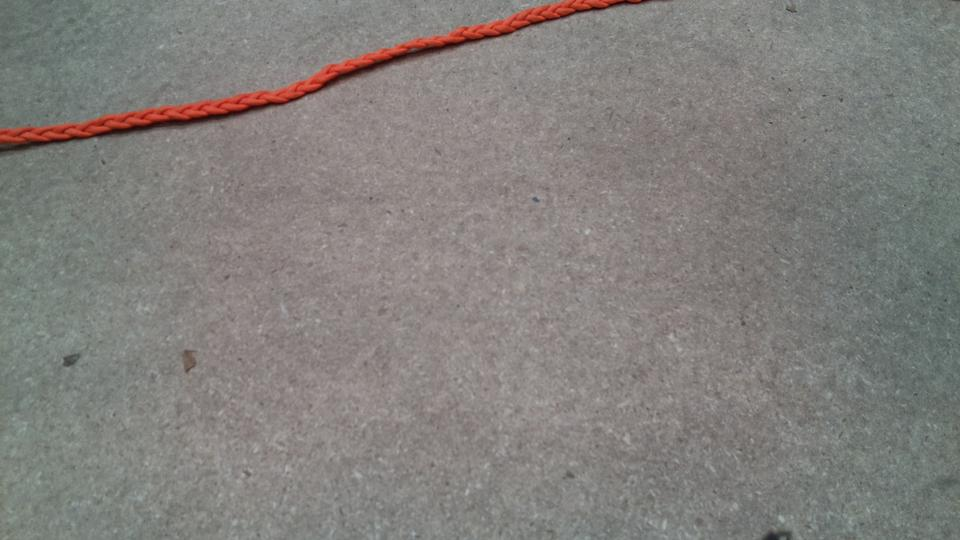rope: (1, 1, 623, 149)
